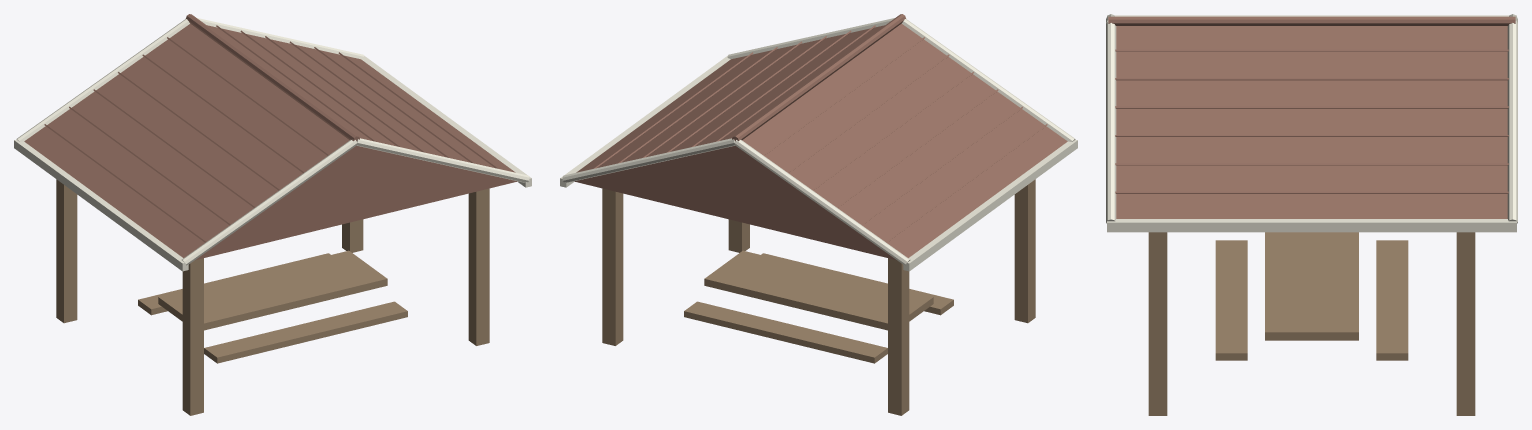
3 views of the same model, side by side, from view 1: azimuth 30°, elevation 25°; view 2: azimuth 150°, elevation 25°; view 3: azimuth 270°, elevation 25° (orthographic). The views are drawn at different scales.
Bounding box in the file's own units: 7.33 × 5.11 × 6.15.
